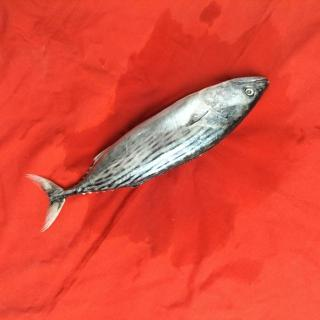Ikan: (26, 69, 274, 237)
